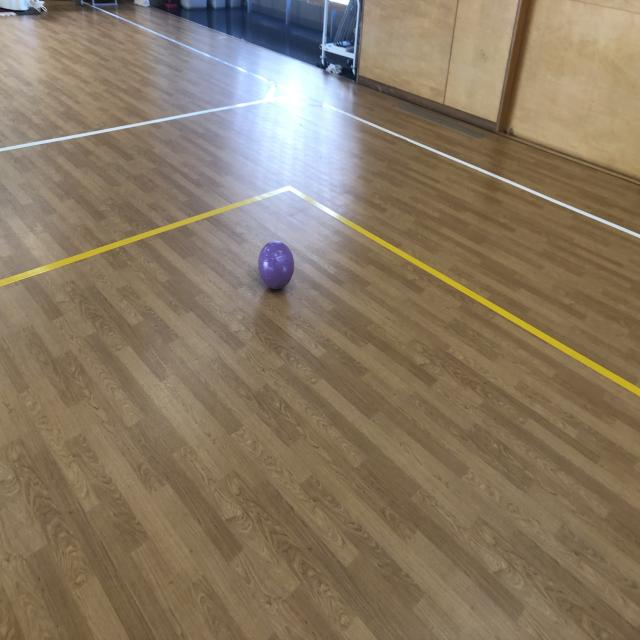purple_ball: (260, 240, 294, 289)
